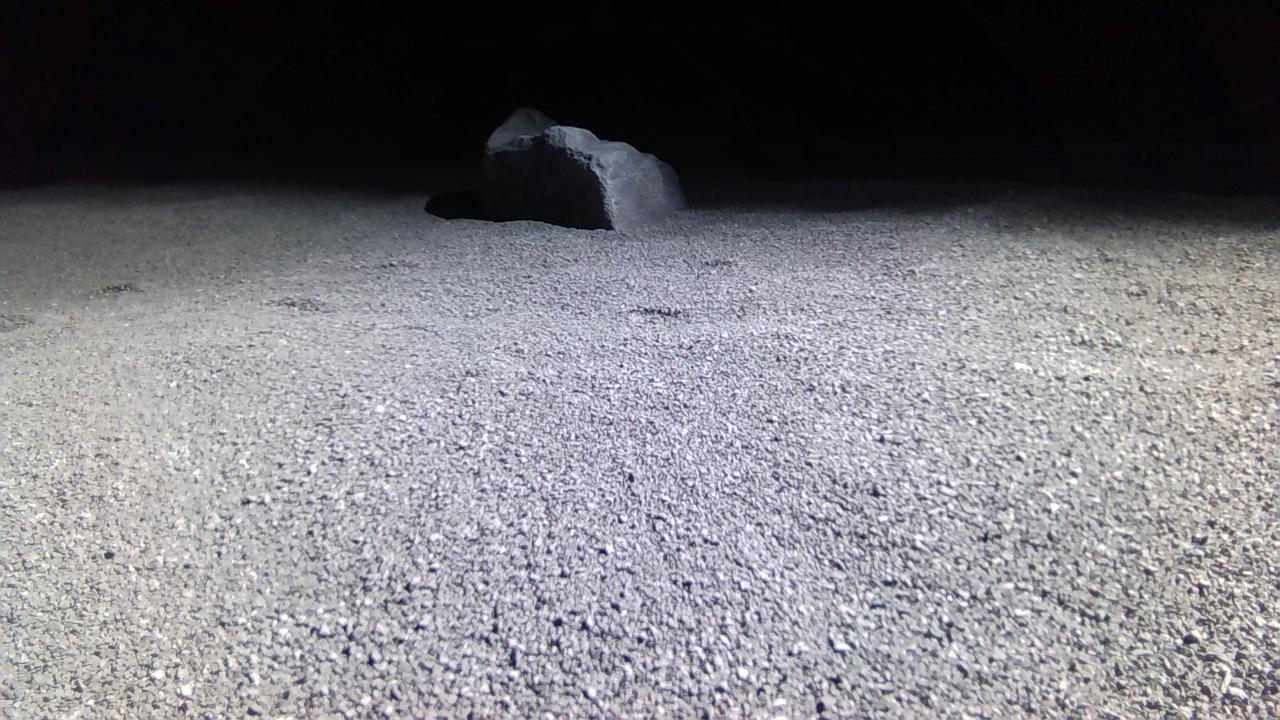rock: (482, 107, 688, 230)
